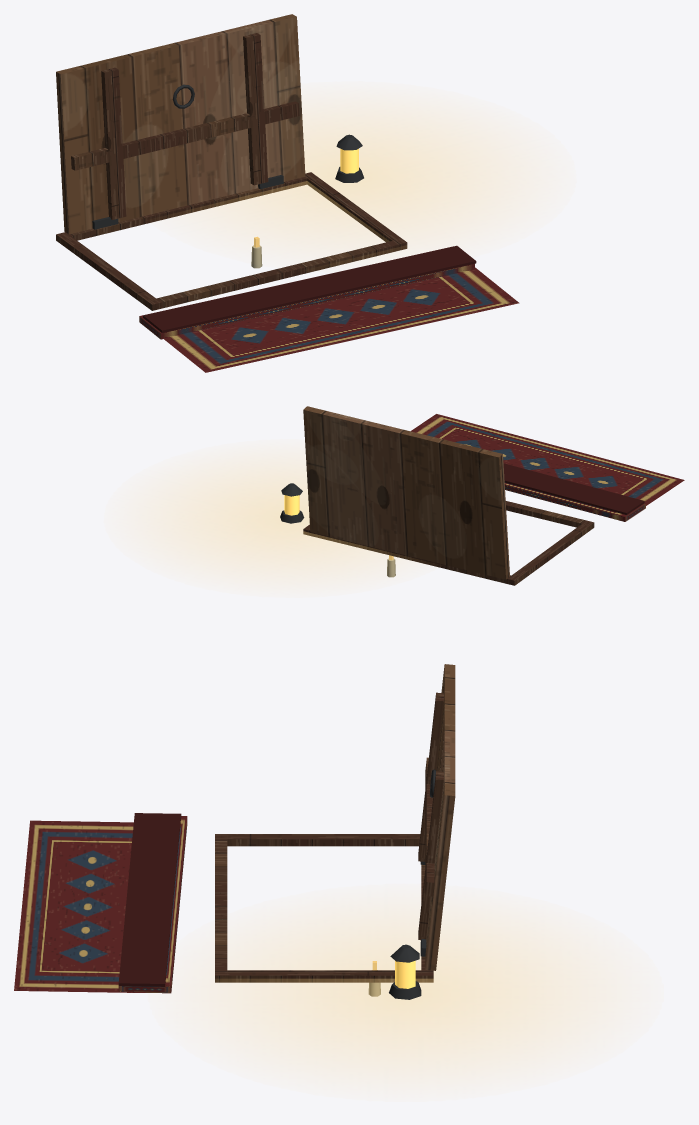
The model's file is delegacia_21h_alcapao.glb.
The picture shows the model from 3 angles, top to bottom: view 1: azimuth 30°, elevation 25°; view 2: azimuth 150°, elevation 25°; view 3: azimuth 270°, elevation 25°; orthographic projection. The views are drawn at different scales.
Bounding box in the file's own units: 4.42 × 1.7 × 4.33.
9 materials, 4 textured.
